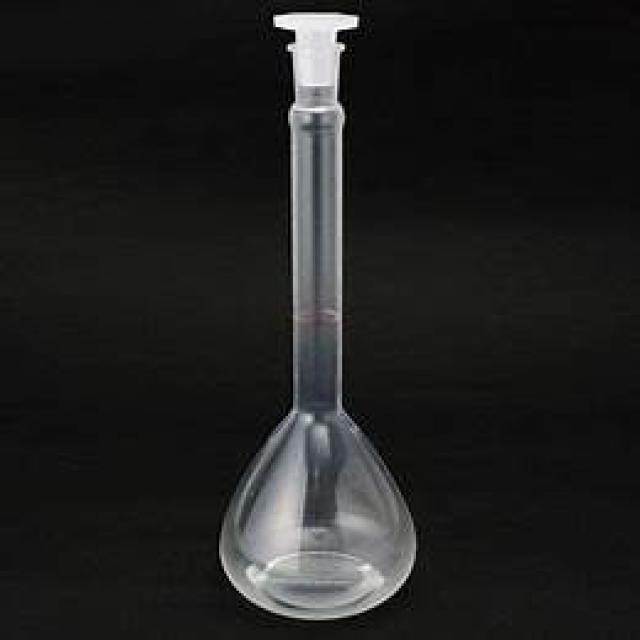Volumetric flask: (222, 10, 425, 614)
